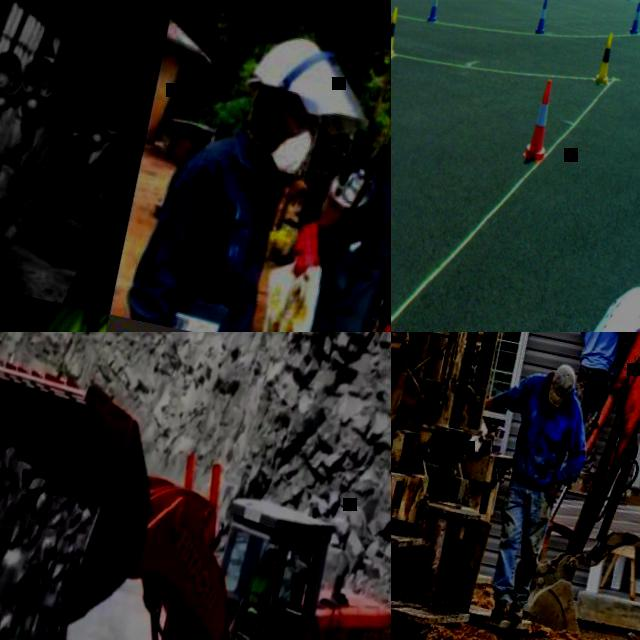helmet: (264, 547, 278, 560)
machinery: (0, 338, 391, 640), (501, 332, 640, 640), (0, 467, 157, 640)
mask: (264, 122, 318, 180), (84, 118, 114, 150), (18, 89, 48, 116), (0, 83, 14, 112)
no_helmet: (547, 362, 580, 406), (24, 54, 59, 76), (100, 90, 131, 112), (0, 48, 23, 70)
no_mask: (262, 562, 271, 574)
no_vest: (151, 115, 292, 332), (304, 146, 391, 332), (29, 130, 128, 270), (508, 372, 578, 487), (0, 101, 53, 217), (580, 332, 626, 369)
person: (121, 11, 339, 332), (440, 348, 606, 626), (266, 56, 391, 332), (21, 82, 139, 280), (551, 332, 640, 474), (238, 544, 282, 632)
safety_cone: (522, 78, 562, 164), (594, 32, 618, 84), (391, 5, 405, 59), (536, 0, 552, 33), (427, 0, 443, 23), (630, 1, 640, 34)
vest: (246, 568, 273, 610)
